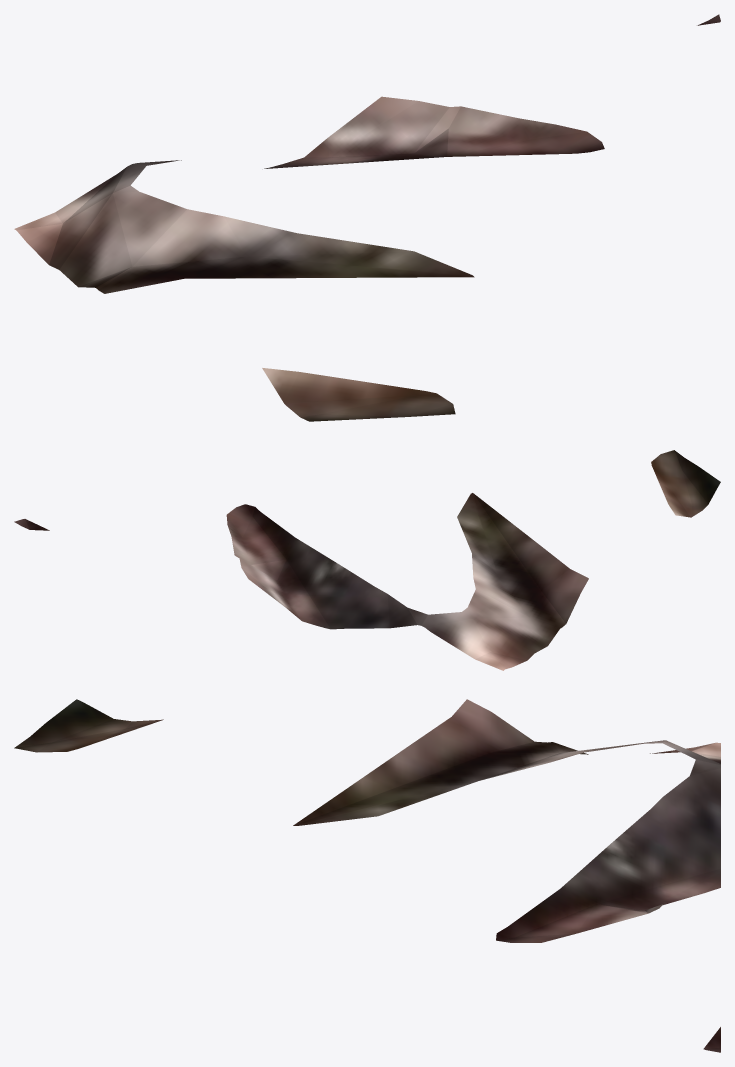
The picture shows the model from 3 angles, top to bottom: view 1: azimuth 30°, elevation 25°; view 2: azimuth 150°, elevation 25°; view 3: azimuth 270°, elevation 25°; orthographic projection. The views are drawn at different scales.
Size of the model in its own units: 0.5172 by 0.0378 by 0.437.
1 material, 1 textured.
